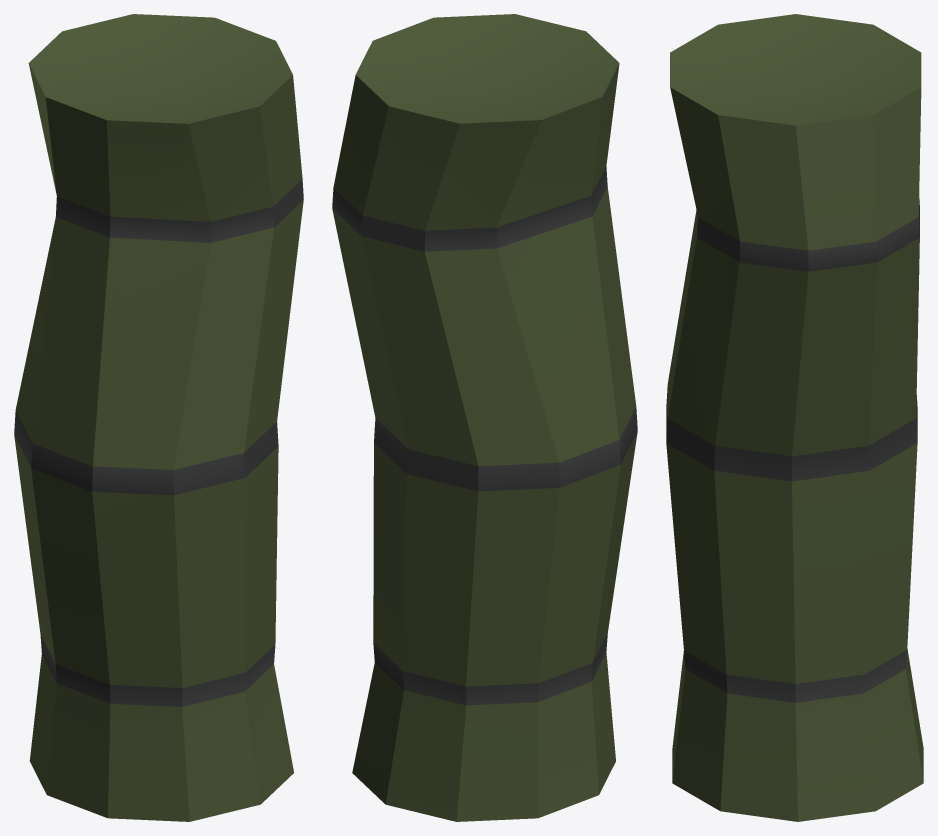
The model's file is Rolled_Up_Mat.fbx.
3 renders of one model, left to right at view 1: azimuth 30°, elevation 25°; view 2: azimuth 150°, elevation 25°; view 3: azimuth 270°, elevation 25°, orthographic.
Visible parts, largest first — view 1: Rolled_Up_Mat; view 2: Rolled_Up_Mat; view 3: Rolled_Up_Mat.
Boxes of the visible parts, <box> form: Rolled_Up_Mat: <box>14,14,303,821</box>; Rolled_Up_Mat: <box>332,14,637,821</box>; Rolled_Up_Mat: <box>666,14,923,821</box>.
Size of the model in its own units: 0.5965 by 1.5 by 0.5036.
